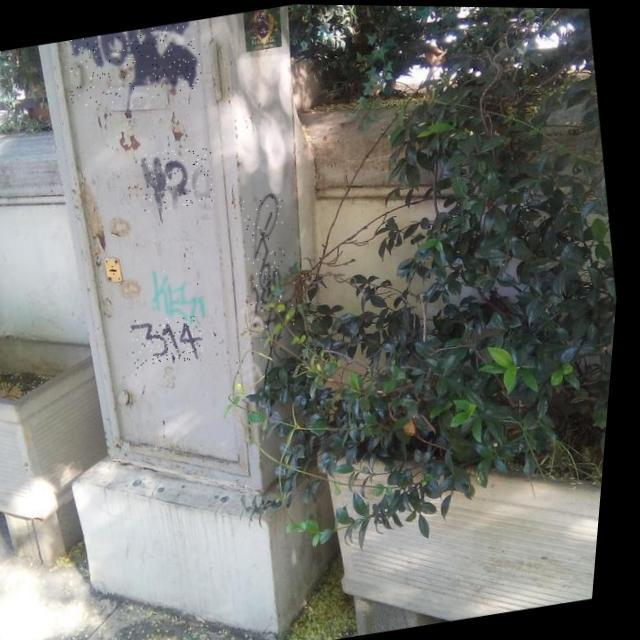-: (63, 17, 208, 111), (235, 191, 309, 331), (136, 141, 223, 214), (132, 308, 212, 368), (146, 259, 216, 323)
